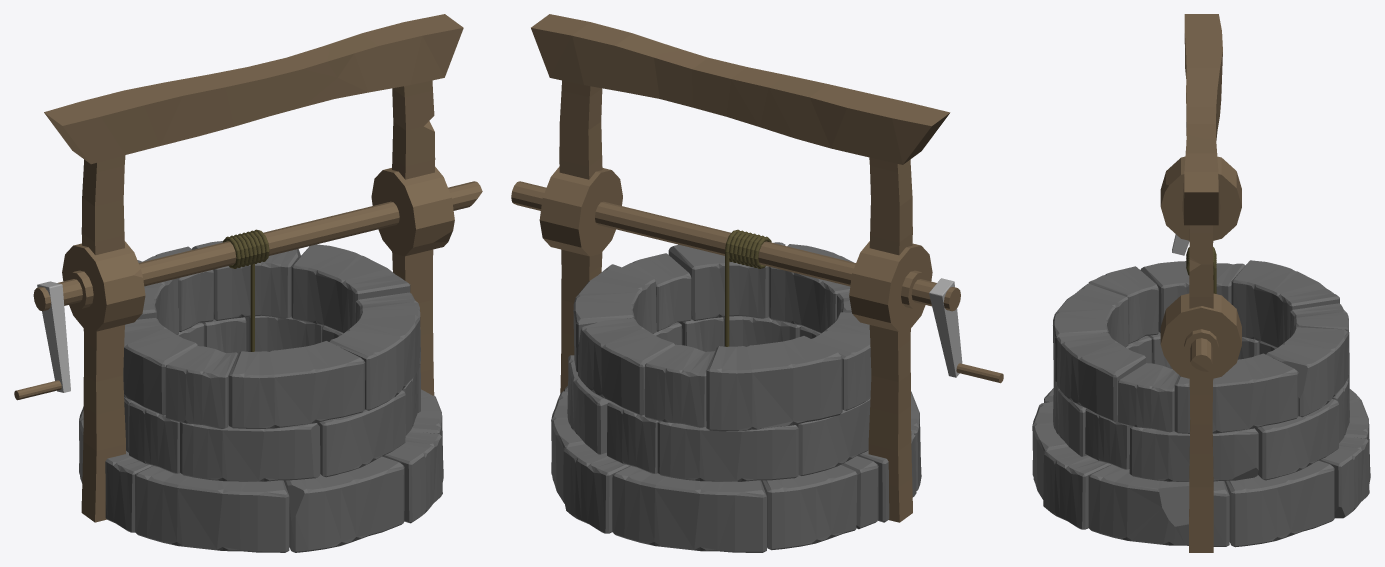
The model's file is Well.fbx.
The picture shows the model from 3 angles, left to right: view 1: azimuth 30°, elevation 25°; view 2: azimuth 150°, elevation 25°; view 3: azimuth 270°, elevation 25°; orthographic projection. The views are drawn at different scales.
Parts seen in each view (by area): view 1: Well; view 2: Well; view 3: Well.
Boxes of the visible parts, bbox=[...] form: Well: bbox=[14, 14, 482, 552]; Well: bbox=[511, 14, 1003, 552]; Well: bbox=[1032, 14, 1370, 552].
Size of the model in its own units: 4.66 by 3.87 by 3.16.
